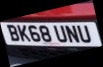character: (65, 24, 80, 43), (53, 24, 67, 42), (77, 24, 91, 42), (27, 24, 41, 41), (38, 25, 52, 41), (6, 24, 19, 41), (17, 24, 30, 41)
